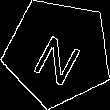N_NE: (29, 21, 88, 84)
